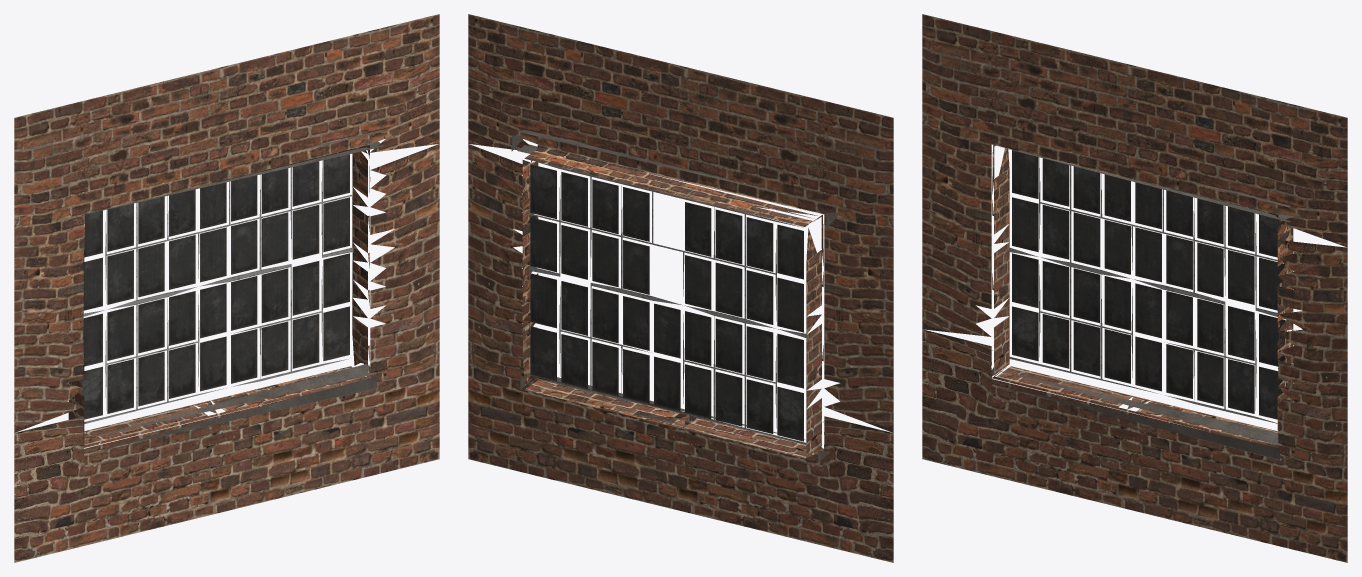
Rendered from bay_window_a_lo.gltf.
The picture shows the model from 3 angles, left to right: view 1: azimuth 30°, elevation 25°; view 2: azimuth 150°, elevation 25°; view 3: azimuth 330°, elevation 25°; orthographic projection.
Parts seen in each view (by area): view 1: bay_window_a_lo; view 2: bay_window_a_lo; view 3: bay_window_a_lo.
Boxes of the visible parts, x1,y1,x2,y2 form: bay_window_a_lo: [14, 14, 439, 562]; bay_window_a_lo: [468, 14, 893, 562]; bay_window_a_lo: [922, 14, 1347, 562].
Size of the model in its own units: 3 by 3 by 0.23.
Materials: 3 (3 with a texture image).
